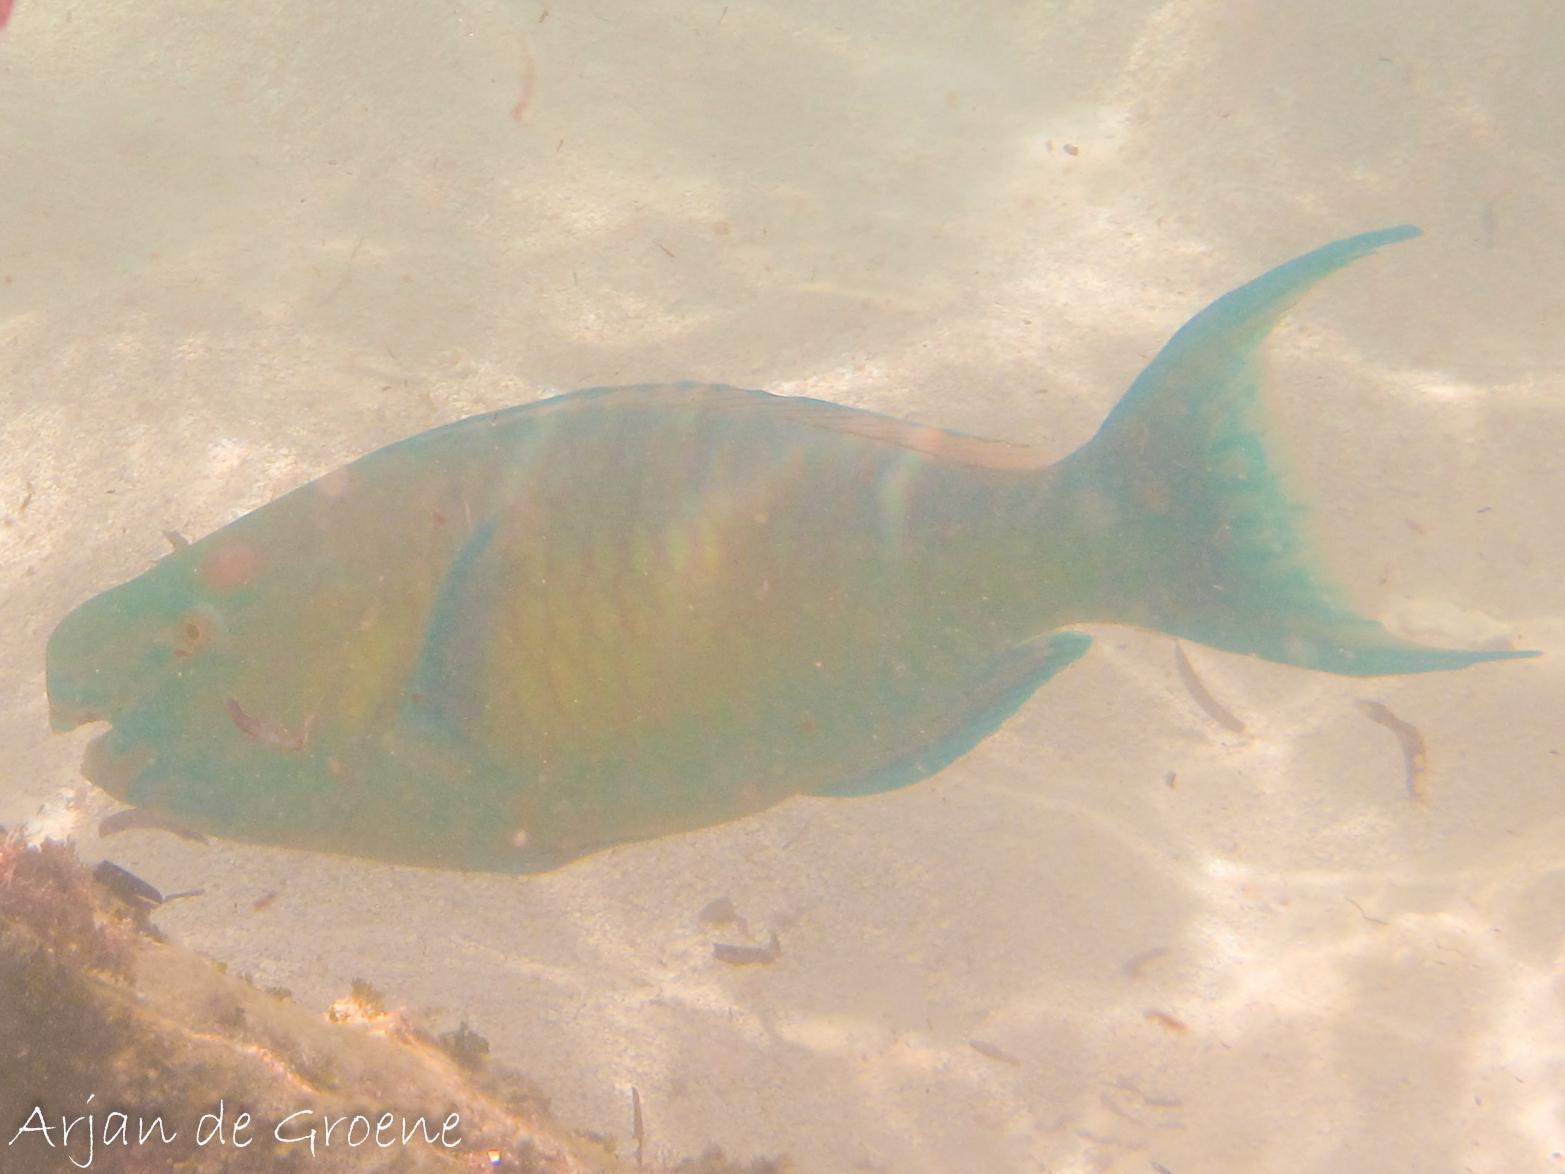Scarus rubroviolaceus: (0, 242, 1565, 989)
